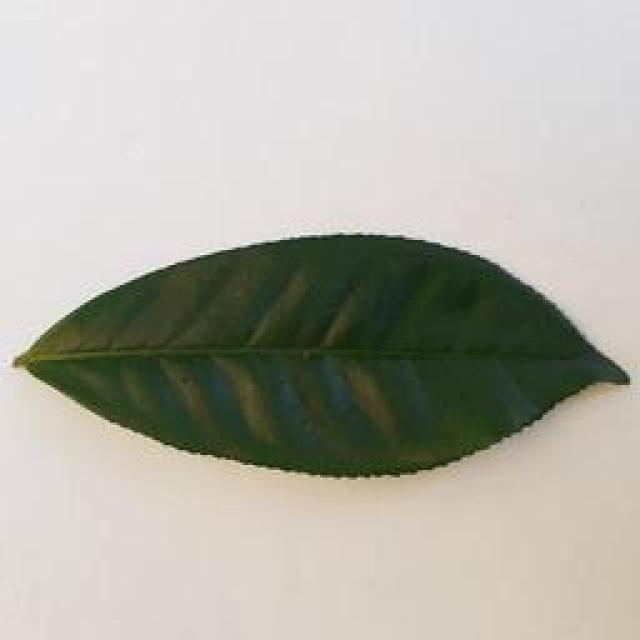Healthy: (10, 238, 640, 480)
